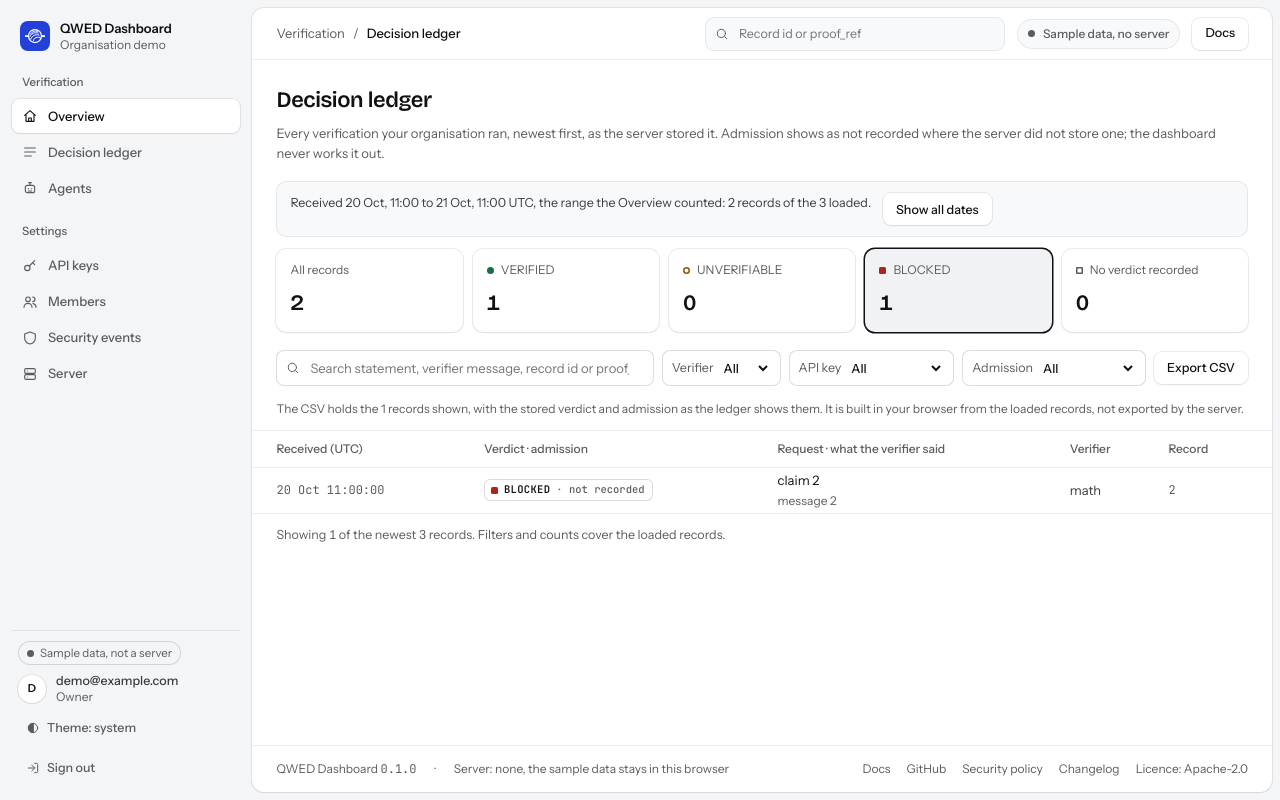
LedgerPage › the range from the Overview (#46) › shows every loaded record again on Show all dates, keeping the other filters
The width and height of the screenshot is (1280, 800).
Click the button "Show all dates" at (937, 209), box [883,193,992,225]
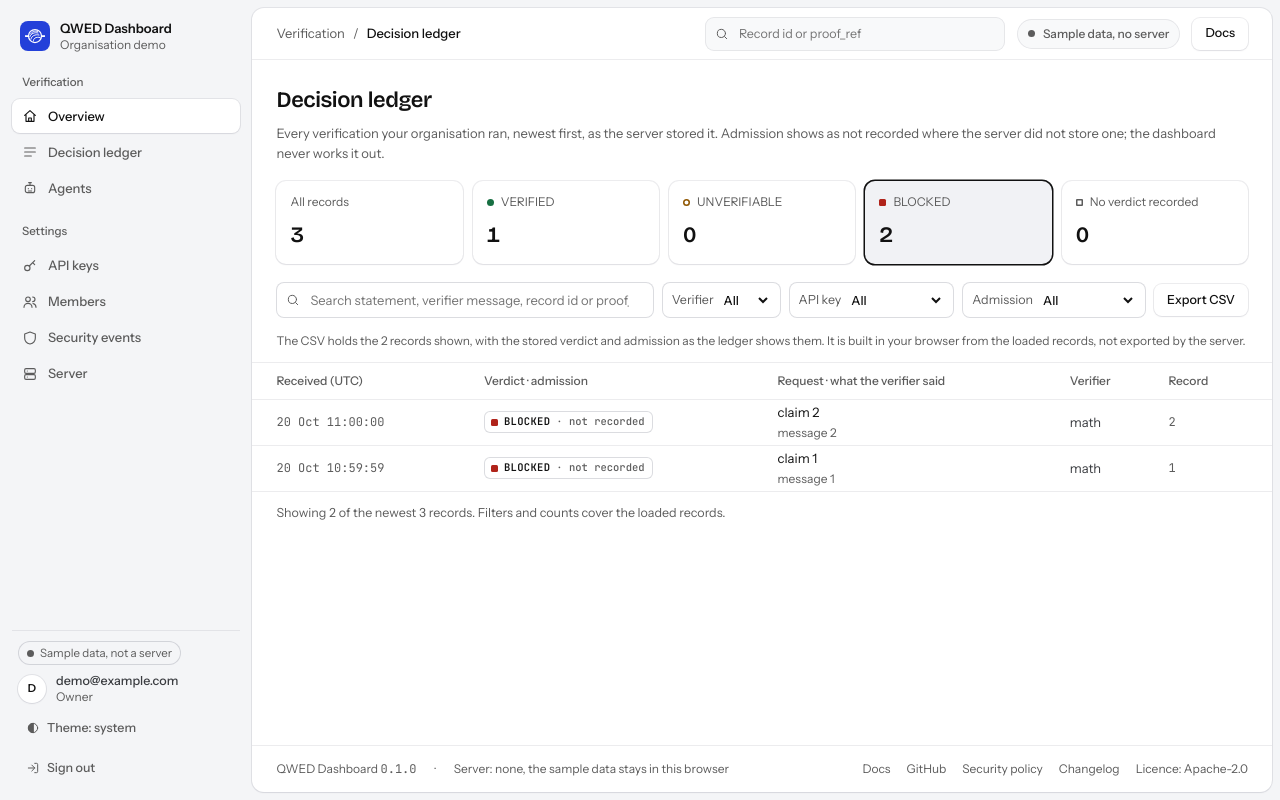
Expected: the link "claim 1" is shown, [778,450,817,466]
Expected: the text "the range the Overview counted" is gone
